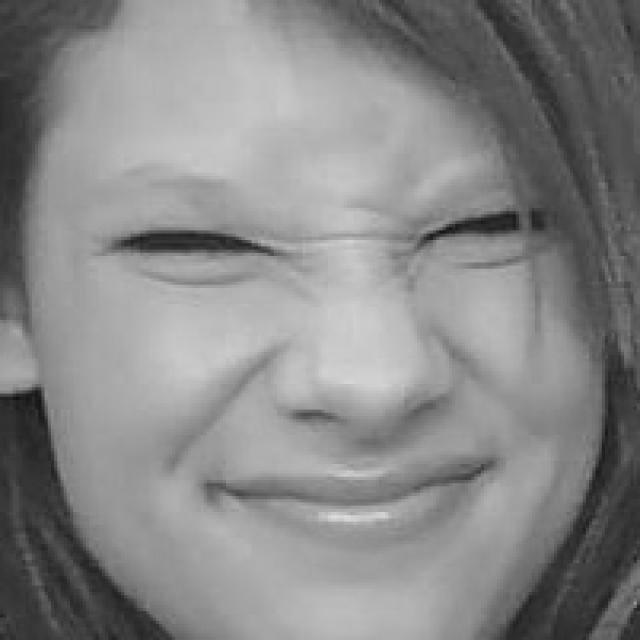real: (82, 44, 578, 628), (88, 188, 568, 290)
